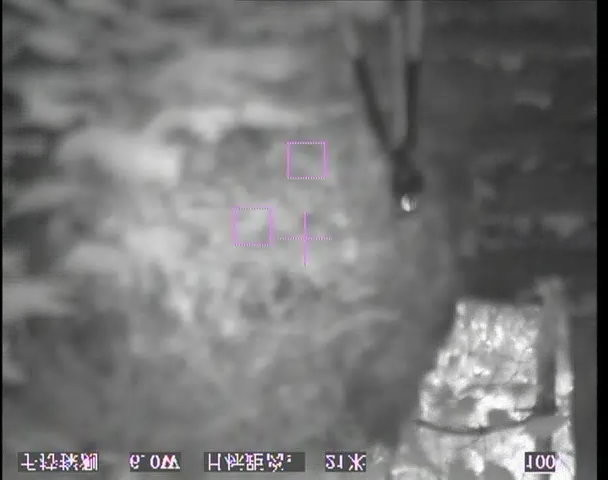my: (396, 189, 422, 215)
